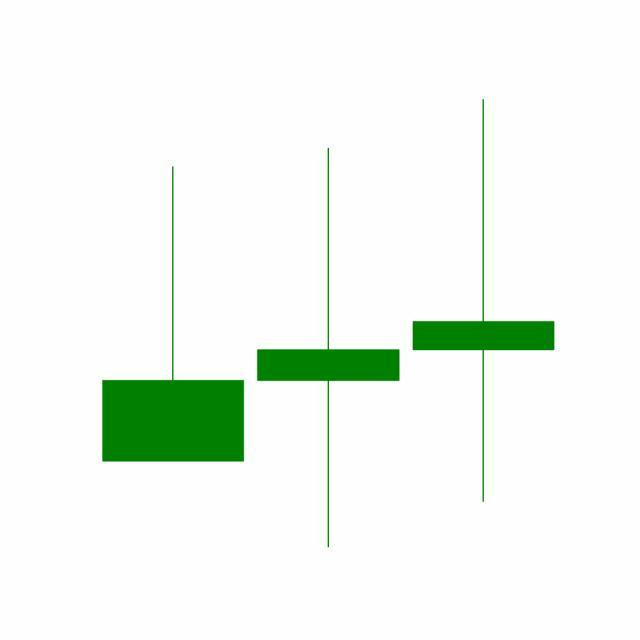Spinning Top: (250, 144, 407, 553)
